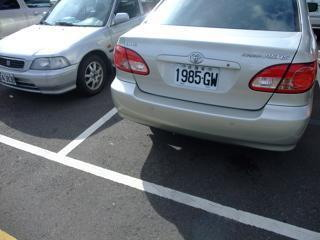plate: (173, 61, 222, 93)
